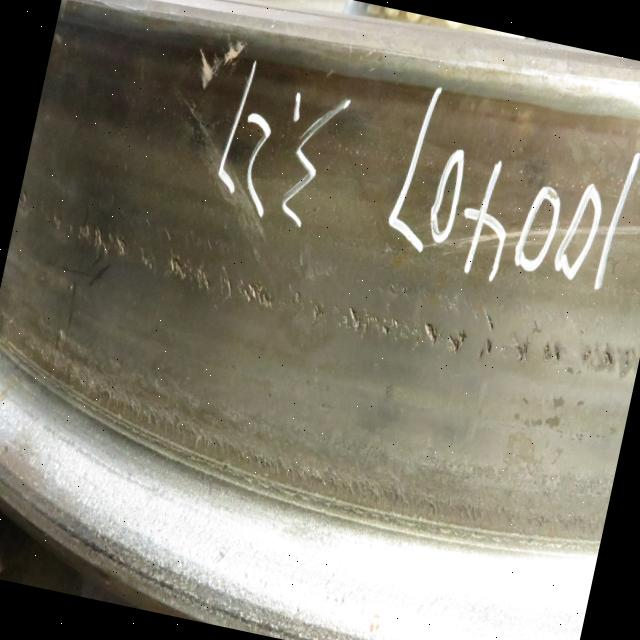Peeling: (40, 208, 640, 399)
